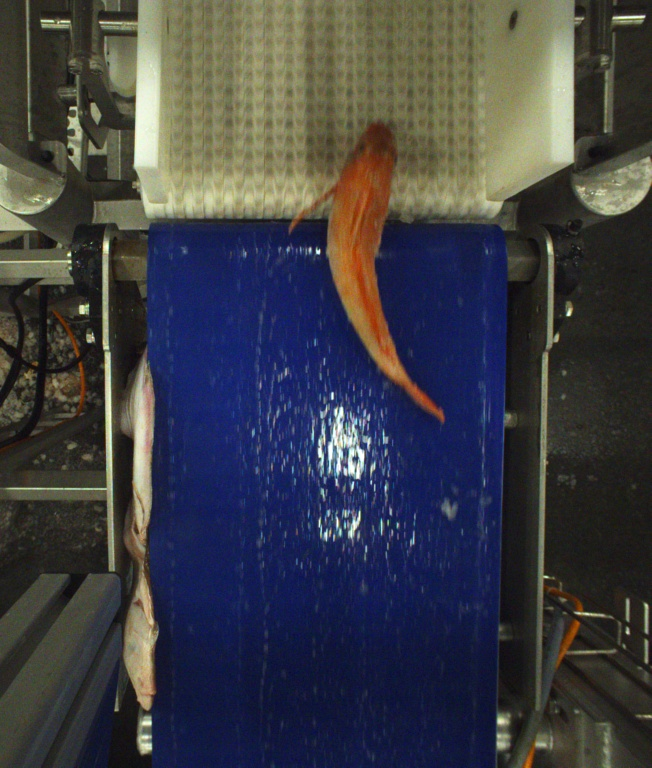GUU: (290, 121, 446, 427)
